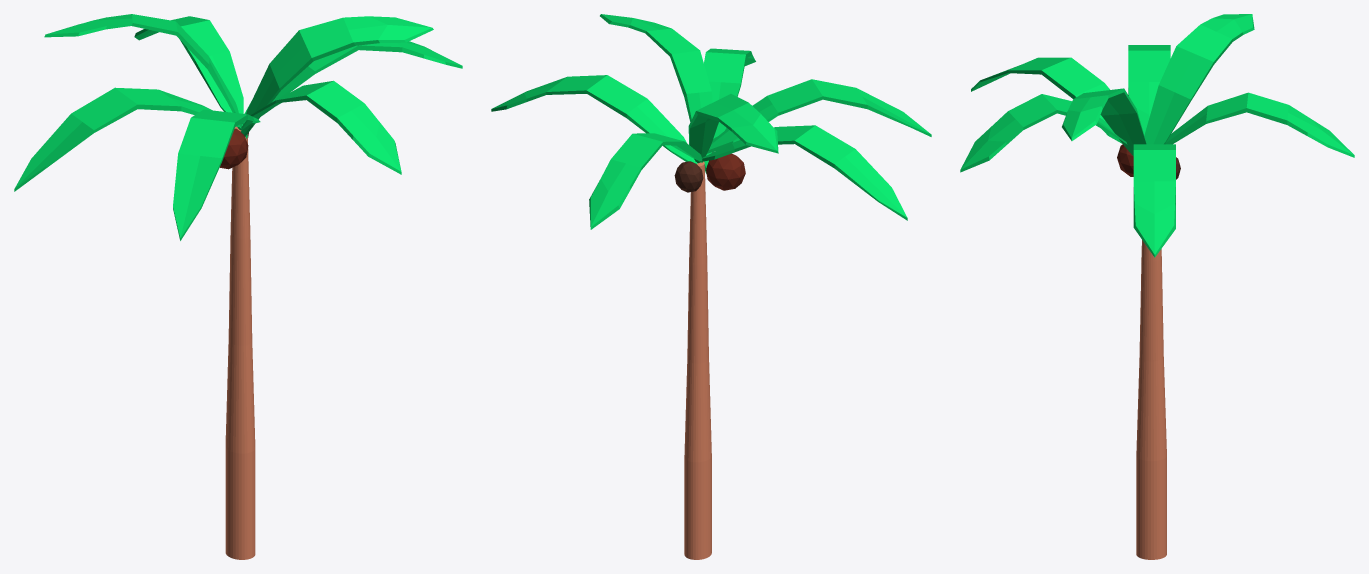
The model's file is palm.fbx.
The picture shows the model from 3 angles, left to right: view 1: azimuth 30°, elevation 25°; view 2: azimuth 150°, elevation 25°; view 3: azimuth 270°, elevation 25°; orthographic projection. The views are drawn at different scales.
Visible parts, largest first — view 1: Cylinder, Cube.004, Cube.001, Cube.000, Cube.003, Cube.002, Cube.005, Cube.157, Icosphere.001; view 2: Cylinder, Cube.157, Cube.000, Cube.002, Cube.001, Cube.005, Cube.004, Cube.003, Icosphere.001, Icosphere; view 3: Cylinder, Cube.005, Cube.157, Cube.002, Cube.004, Cube.003, Cube.001, Cube.000.
Part boxes in pixels (<box>): Cylinder: <box>225,126,255,559</box>; Cube.004: <box>241,16,433,136</box>; Cube.001: <box>173,109,260,240</box>; Cube.000: <box>14,87,239,191</box>; Cube.003: <box>241,80,401,174</box>; Cube.002: <box>134,16,243,130</box>; Cube.005: <box>44,14,247,138</box>; Cube.157: <box>244,41,462,113</box>; Icosphere.001: <box>219,128,248,169</box>; Cylinder: <box>684,161,711,559</box>; Cube.157: <box>491,75,697,164</box>; Cube.000: <box>700,125,907,220</box>; Cube.002: <box>589,133,702,229</box>; Cube.001: <box>707,79,931,153</box>; Cube.005: <box>688,94,778,163</box>; Cube.004: <box>600,14,712,173</box>; Cube.003: <box>704,48,755,152</box>; Icosphere.001: <box>706,153,745,190</box>; Icosphere: <box>674,161,703,192</box>; Cylinder: <box>1136,240,1166,559</box>; Cube.005: <box>1144,14,1254,144</box>; Cube.157: <box>1133,144,1175,257</box>; Cube.002: <box>1165,92,1354,157</box>; Cube.004: <box>1062,88,1146,155</box>; Cube.003: <box>960,94,1127,172</box>; Cube.001: <box>971,57,1122,143</box>; Cube.000: <box>1128,45,1170,135</box>.
Size of the model in its own units: 322 by 364 by 263.
